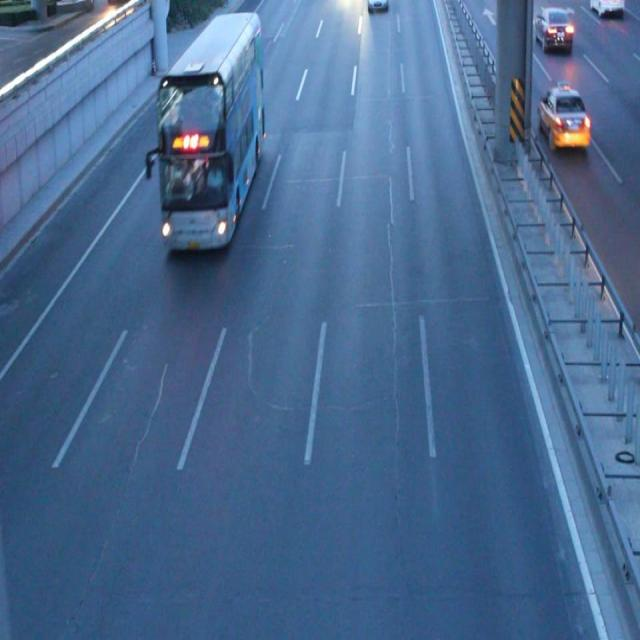car: (538, 83, 589, 150), (532, 1, 572, 51)
van: (156, 17, 262, 251)
